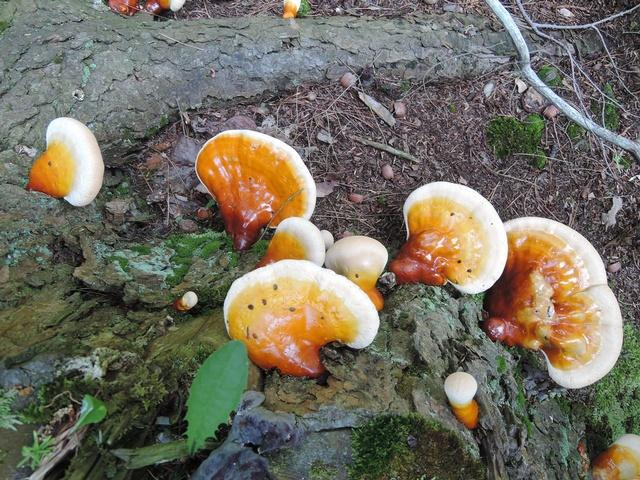poisonous_mushroom: (160, 120, 640, 480), (24, 114, 105, 207)
